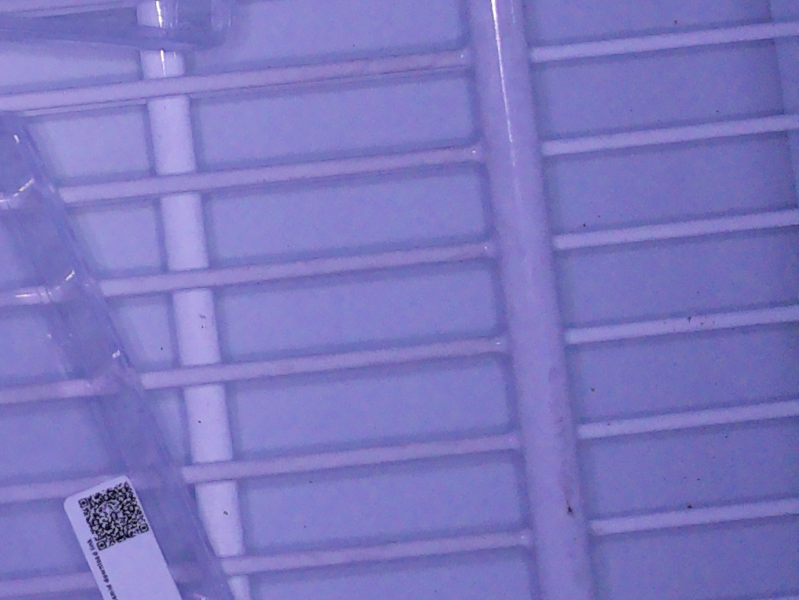plate: (1, 116, 235, 600), (1, 1, 232, 53)
